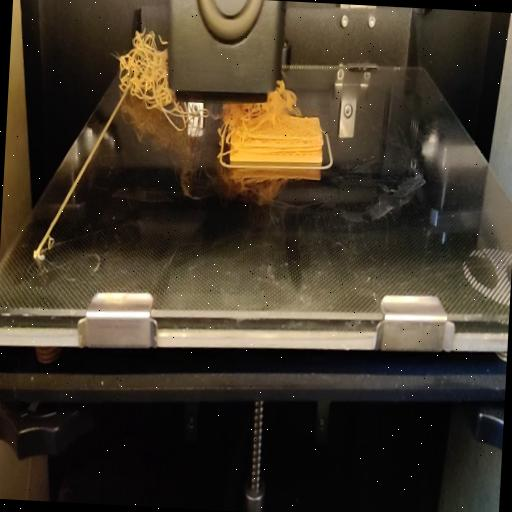spaghetti: (113, 26, 172, 120), (166, 91, 217, 132)
